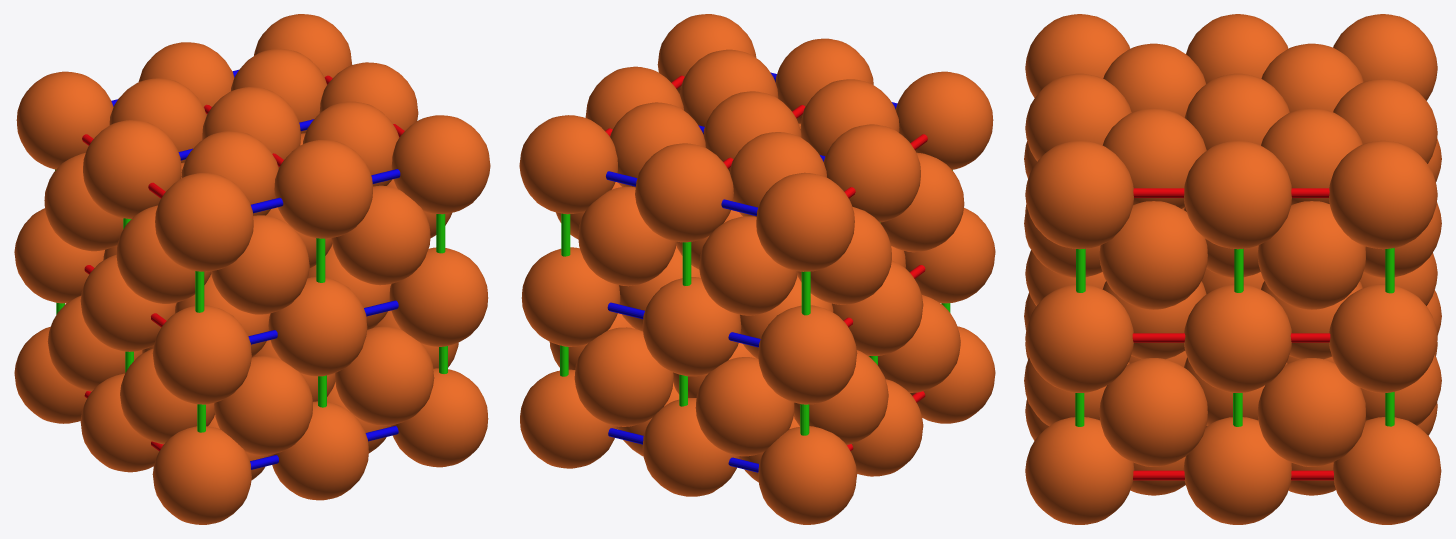
File: empaquetamiento centrado en las caras.glb
The picture shows the model from 3 angles, left to right: view 1: azimuth 30°, elevation 25°; view 2: azimuth 150°, elevation 25°; view 3: azimuth 270°, elevation 25°; orthographic projection. The views are drawn at different scales.
Visible parts, largest first — view 1: Sphere.260_Sphere.364, Sphere.274_Sphere.378, Sphere.219_Sphere.314, Sphere.217_Sphere.312, Sphere.266_Sphere.370, Sphere.237_Sphere.341, Sphere.216_Sphere.311, Sphere.218_Sphere.313, Sphere.171_Sphere.304, Sphere.229_Sphere.324, Sphere.239_Sphere.343, Sphere.273_Sphere.377 (+25 smaller); view 2: Sphere.239_Sphere.343, Sphere.206_Sphere.295, Sphere.249_Sphere.353, Sphere.204_Sphere.293, Sphere.250_Sphere.354, Sphere.197_Sphere.286, Sphere.205_Sphere.294, Sphere.182_Sphere.272, Sphere.211_Sphere.300, Sphere.260_Sphere.364, Sphere.237_Sphere.341, Sphere.244_Sphere.348 (+23 smaller); view 3: Sphere.266_Sphere.370, Sphere.250_Sphere.354, Sphere.246_Sphere.350, Sphere.182_Sphere.272, Sphere.213_Sphere.308, Sphere.171_Sphere.304, Sphere.158_Sphere.268, Sphere.194_Sphere.283, Sphere.271_Sphere.375, Sphere.170_Sphere.270, Sphere.159_Sphere.303, Sphere.149_Sphere.266 (+27 smaller).
Part boxes in pixels (left/top/right/bottom): Sphere.260_Sphere.364: left=155, top=173, right=253, bottom=271; Sphere.274_Sphere.378: left=274, top=140, right=372, bottom=238; Sphere.219_Sphere.314: left=152, top=305, right=251, bottom=404; Sphere.217_Sphere.312: left=152, top=426, right=251, bottom=524; Sphere.266_Sphere.370: left=391, top=115, right=490, bottom=214; Sphere.237_Sphere.341: left=83, top=120, right=181, bottom=218; Sphere.216_Sphere.311: left=335, top=326, right=434, bottom=425; Sphere.218_Sphere.313: left=268, top=277, right=367, bottom=376; Sphere.171_Sphere.304: left=389, top=247, right=488, bottom=346; Sphere.229_Sphere.324: left=214, top=356, right=312, bottom=455; Sphere.239_Sphere.343: left=16, top=71, right=113, bottom=169; Sphere.273_Sphere.377: left=331, top=185, right=430, bottom=285; Sphere.239_Sphere.343: left=756, top=172, right=854, bottom=271; Sphere.206_Sphere.295: left=758, top=305, right=857, bottom=404; Sphere.249_Sphere.353: left=635, top=143, right=733, bottom=242; Sphere.204_Sphere.293: left=758, top=426, right=857, bottom=524; Sphere.250_Sphere.354: left=519, top=115, right=617, bottom=214; Sphere.197_Sphere.286: left=574, top=327, right=673, bottom=426; Sphere.205_Sphere.294: left=642, top=277, right=741, bottom=376; Sphere.182_Sphere.272: left=521, top=247, right=620, bottom=346; Sphere.211_Sphere.300: left=695, top=357, right=794, bottom=456; Sphere.260_Sphere.364: left=895, top=71, right=993, bottom=169; Sphere.237_Sphere.341: left=823, top=124, right=920, bottom=222; Sphere.244_Sphere.348: left=699, top=216, right=797, bottom=315; Sphere.266_Sphere.370: left=1025, top=140, right=1133, bottom=249; Sphere.250_Sphere.354: left=1329, top=140, right=1437, bottom=249; Sphere.246_Sphere.350: left=1184, top=140, right=1291, bottom=249; Sphere.182_Sphere.272: left=1329, top=284, right=1437, bottom=392; Sphere.213_Sphere.308: left=1099, top=358, right=1207, bottom=466; Sphere.171_Sphere.304: left=1025, top=284, right=1133, bottom=392; Sphere.158_Sphere.268: left=1184, top=284, right=1291, bottom=392; Sphere.194_Sphere.283: left=1257, top=358, right=1365, bottom=466; Sphere.271_Sphere.375: left=1099, top=201, right=1207, bottom=309; Sphere.170_Sphere.270: left=1332, top=417, right=1441, bottom=524; Sphere.159_Sphere.303: left=1025, top=417, right=1134, bottom=524; Sphere.149_Sphere.266: left=1183, top=417, right=1291, bottom=524.
Size of the model in its own units: 1.4 by 1.42 by 1.4.
